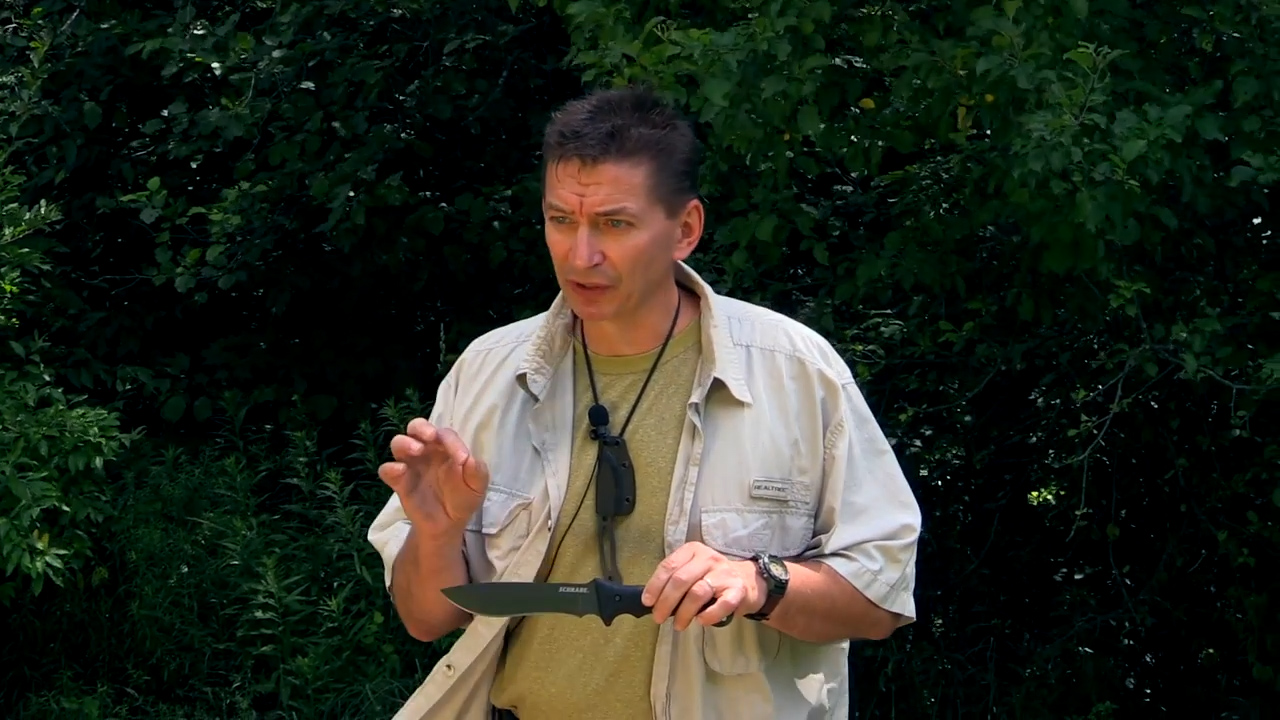knife: (434, 552, 736, 631)
